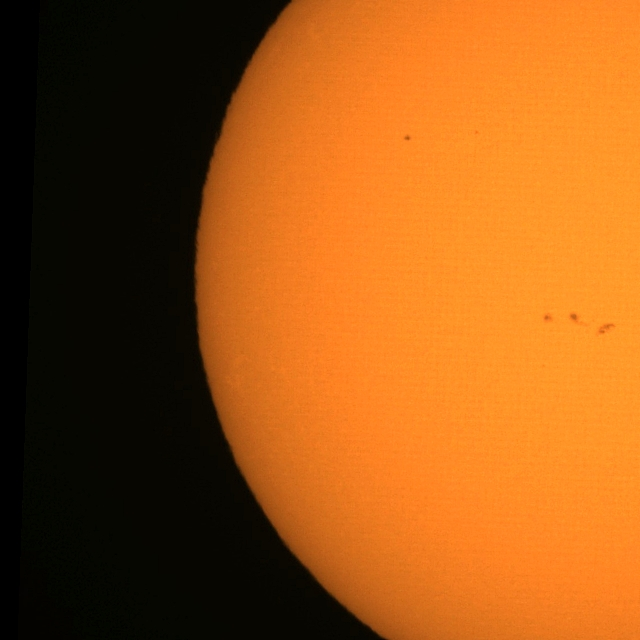sunspot: (567, 312, 616, 336), (597, 322, 616, 336), (568, 312, 582, 325), (542, 312, 554, 324), (403, 134, 412, 142), (474, 130, 480, 135)
